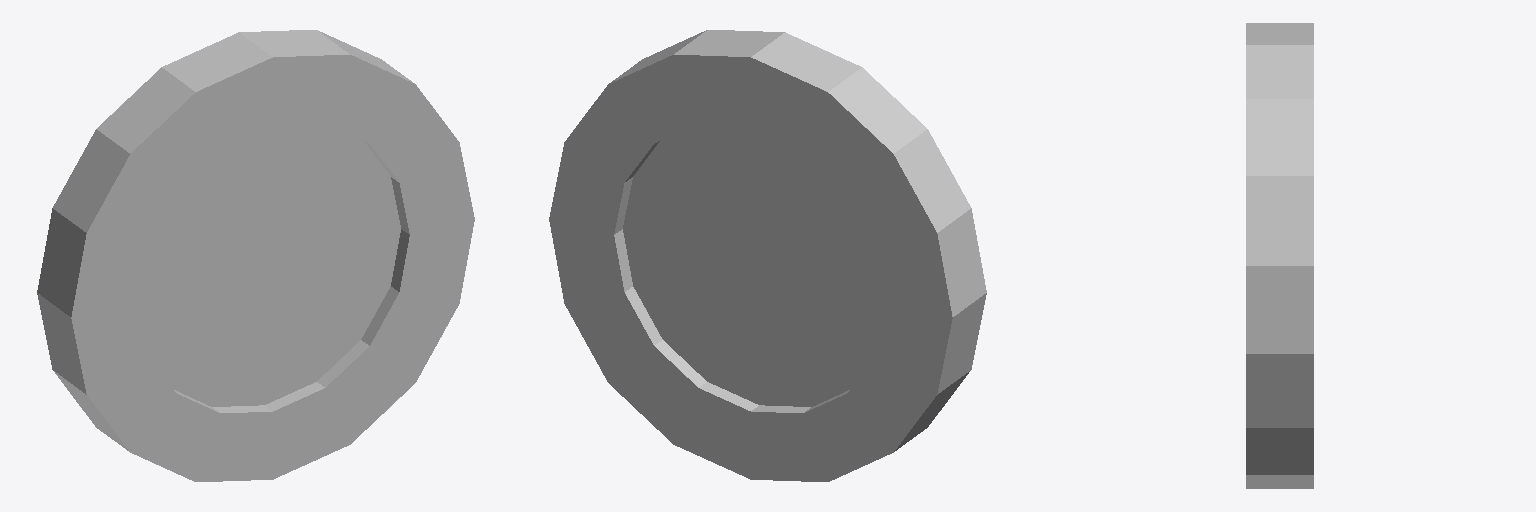
The model's file is coin.obj.
3 views of the same model, side by side, from view 1: azimuth 30°, elevation 25°; view 2: azimuth 150°, elevation 25°; view 3: azimuth 270°, elevation 25° (orthographic).
Visible parts, largest first — view 1: coin; view 2: coin; view 3: coin.
Part boxes in pixels (bbox=[...]): coin: bbox=[37, 30, 474, 481]; coin: bbox=[549, 30, 986, 481]; coin: bbox=[1246, 23, 1313, 488].
Bounding box in the file's own units: 0.4935 × 0.4935 × 0.0724.